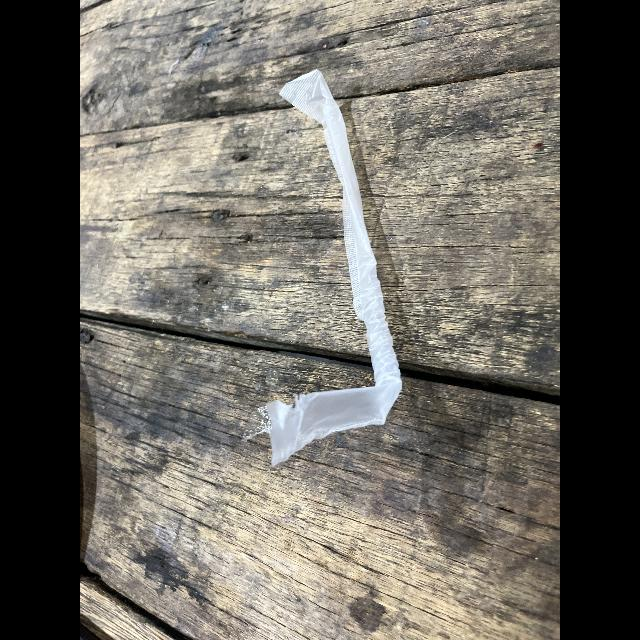scrap_plastic: (246, 67, 409, 465)
